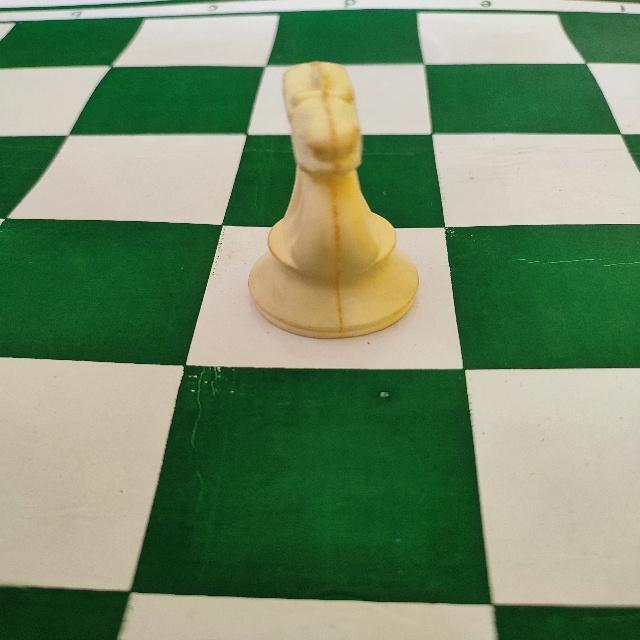Knight: (244, 57, 421, 344)
